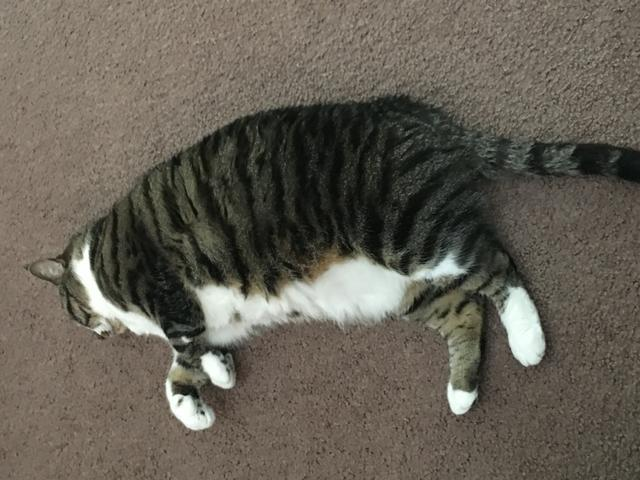playdoh: (25, 93, 640, 431)
